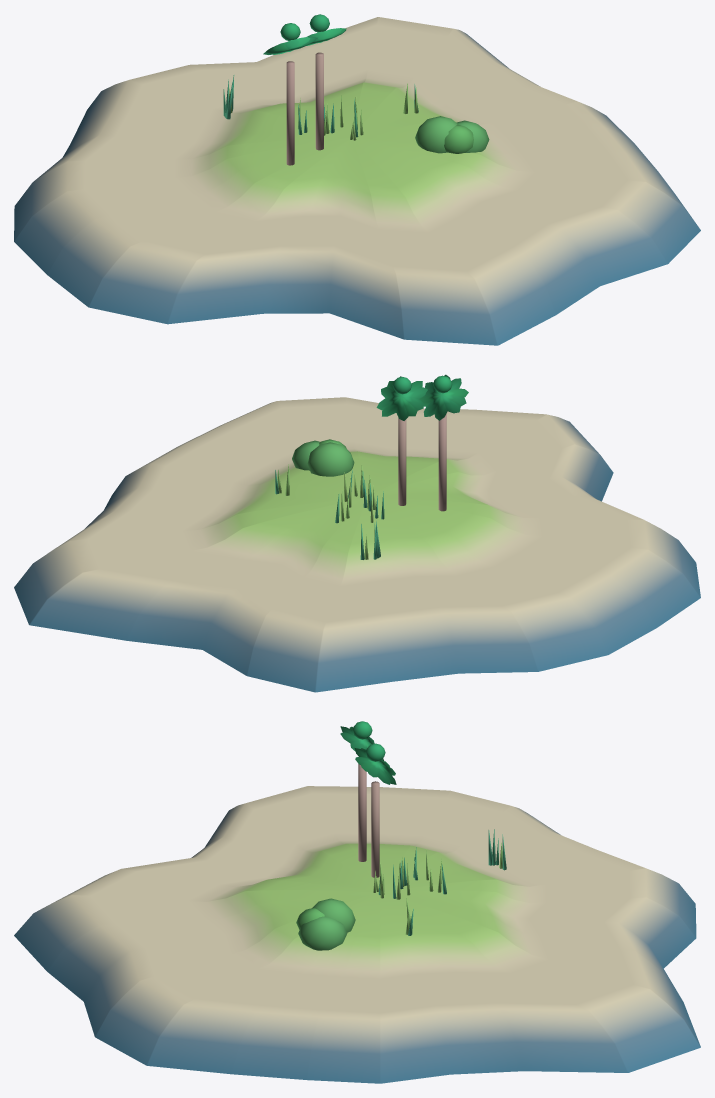
The model's file is terrain_island_15.glb.
3 views of the same model, one above another, from view 1: azimuth 30°, elevation 25°; view 2: azimuth 150°, elevation 25°; view 3: azimuth 270°, elevation 25° (orthographic). The views are drawn at different scales.
Parts seen in each view (by area): view 1: island_terrain, veg_shrub0_ball2, veg_tree0_palm_trunk, veg_tree1_palm_trunk, veg_shrub0_ball1; view 2: island_terrain, veg_shrub0_ball2, veg_tree0_palm_trunk, veg_tree1_palm_trunk; view 3: island_terrain, veg_shrub0_ball0, veg_tree1_palm_trunk, veg_tree0_palm_trunk, veg_shrub0_ball2.
Part boxes in pixels (x1,y1,x2,y2): island_terrain: [14, 17, 700, 345]; veg_shrub0_ball2: [415, 116, 458, 153]; veg_tree0_palm_trunk: [286, 61, 294, 165]; veg_tree1_palm_trunk: [315, 52, 323, 150]; veg_shrub0_ball1: [444, 124, 473, 153]; island_terrain: [14, 397, 700, 692]; veg_shrub0_ball2: [307, 442, 354, 476]; veg_tree0_palm_trunk: [438, 414, 446, 511]; veg_tree1_palm_trunk: [398, 418, 406, 505]; island_terrain: [14, 786, 700, 1083]; veg_shrub0_ball0: [298, 916, 347, 950]; veg_tree1_palm_trunk: [371, 781, 379, 877]; veg_tree0_palm_trunk: [358, 764, 366, 861]; veg_shrub0_ball2: [312, 898, 355, 932].
Size of the model in its own units: 156 by 52.03 by 163.
